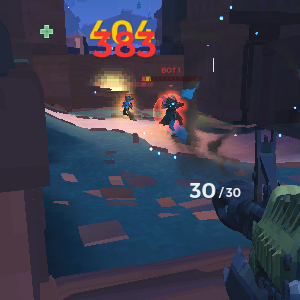model: (157, 90, 193, 129), (120, 94, 132, 119)
